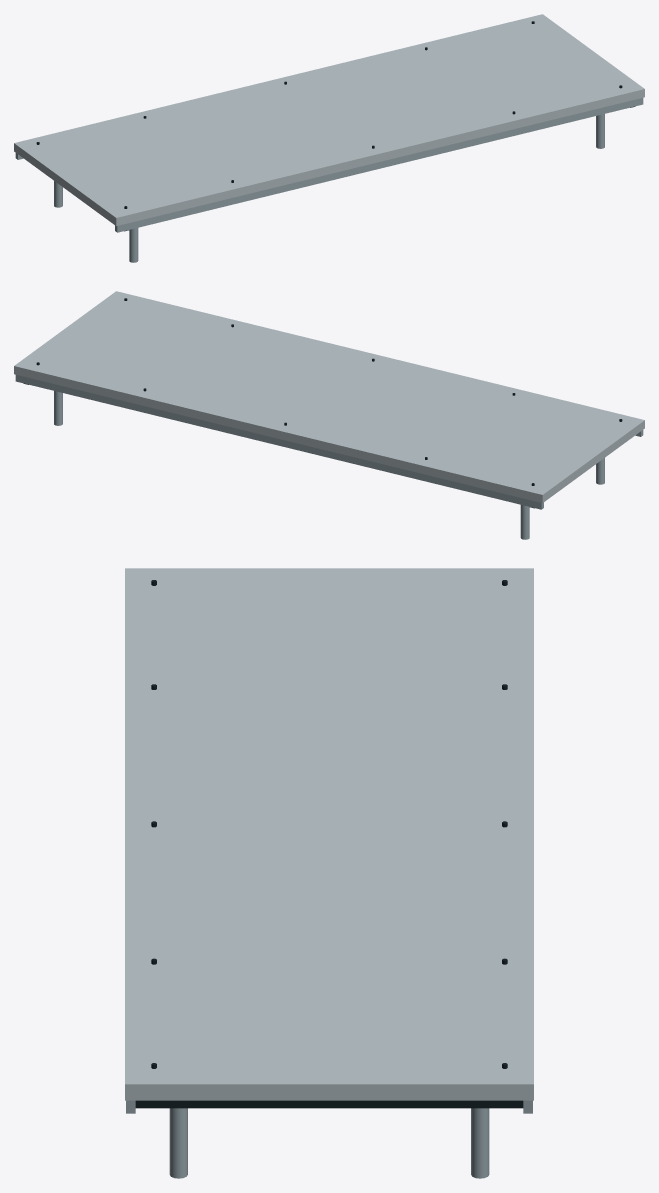
Rendered from platform-low.glb.
The picture shows the model from 3 angles, top to bottom: view 1: azimuth 30°, elevation 25°; view 2: azimuth 150°, elevation 25°; view 3: azimuth 270°, elevation 25°; orthographic projection. The views are drawn at different scales.
Parts seen in each view (by area): view 1: satin-aluminium, stainless-steel; view 2: satin-aluminium, stainless-steel; view 3: satin-aluminium, black-anodised, stainless-steel.
Boxes of the visible parts, x1,y1,x2,y2 form: satin-aluminium: (14, 14, 644, 226); stainless-steel: (15, 98, 643, 262); satin-aluminium: (14, 291, 644, 503); stainless-steel: (15, 375, 643, 539); satin-aluminium: (125, 568, 533, 1100); black-anodised: (135, 580, 523, 1108); stainless-steel: (126, 1100, 532, 1178).
Size of the model in its own units: 9.4 by 1.06 by 3.15.
